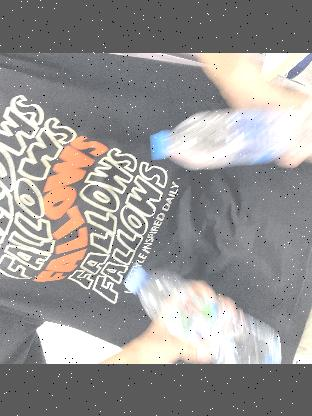Plastic Bottle: (124, 270, 280, 364), (149, 96, 312, 167)
